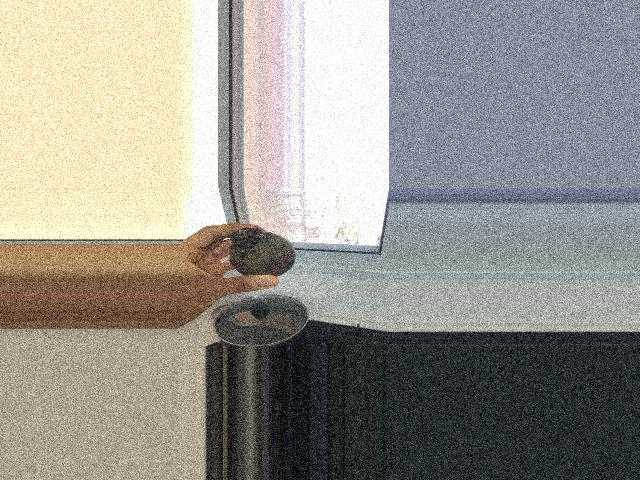beet: (210, 227, 296, 277)
